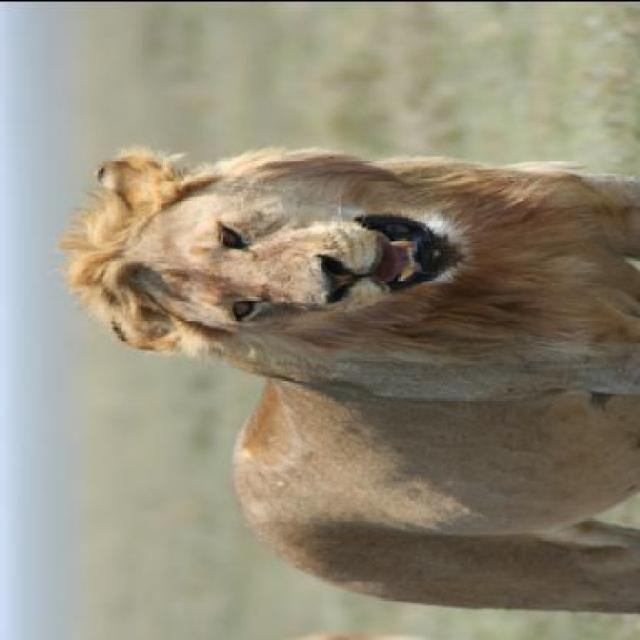Lion: (49, 131, 638, 638)
